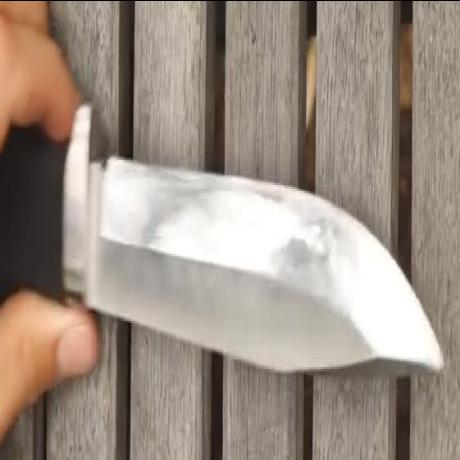weapon: (70, 101, 448, 444)
